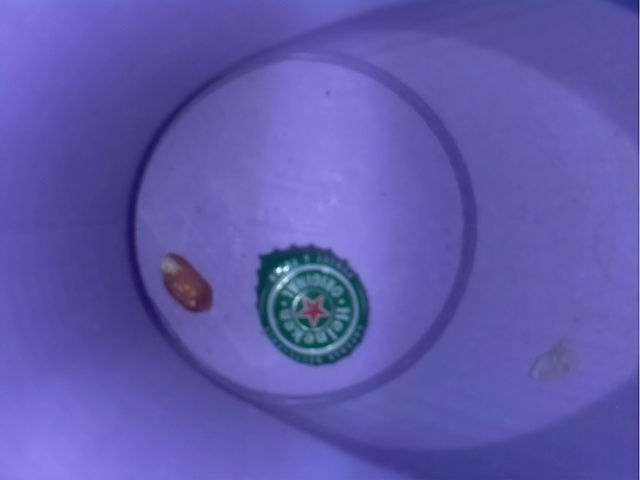capsule: (238, 232, 387, 379)
croquette: (148, 241, 222, 327)
